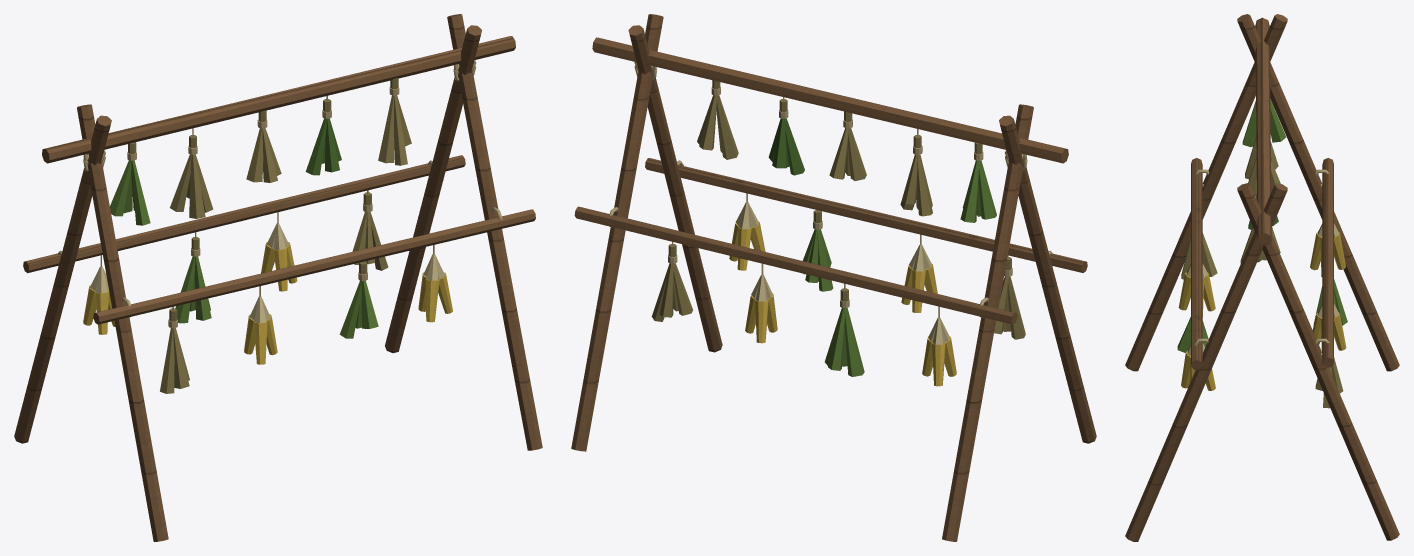
File: drying_rack.glb
3 renders of one model, left to right at view 1: azimuth 30°, elevation 25°; view 2: azimuth 150°, elevation 25°; view 3: azimuth 270°, elevation 25°, orthographic. The views are drawn at different scales.
Visible parts, largest first — view 1: drying_rack; view 2: drying_rack; view 3: drying_rack.
Boxes of the visible parts, bbox=[...] form: drying_rack: bbox=[14, 14, 542, 541]; drying_rack: bbox=[571, 14, 1096, 541]; drying_rack: bbox=[1125, 14, 1399, 541].
Bounding box in the file's own units: 2.4 × 1.86 × 1.31.
Materials: 8 (8 with a texture image).
